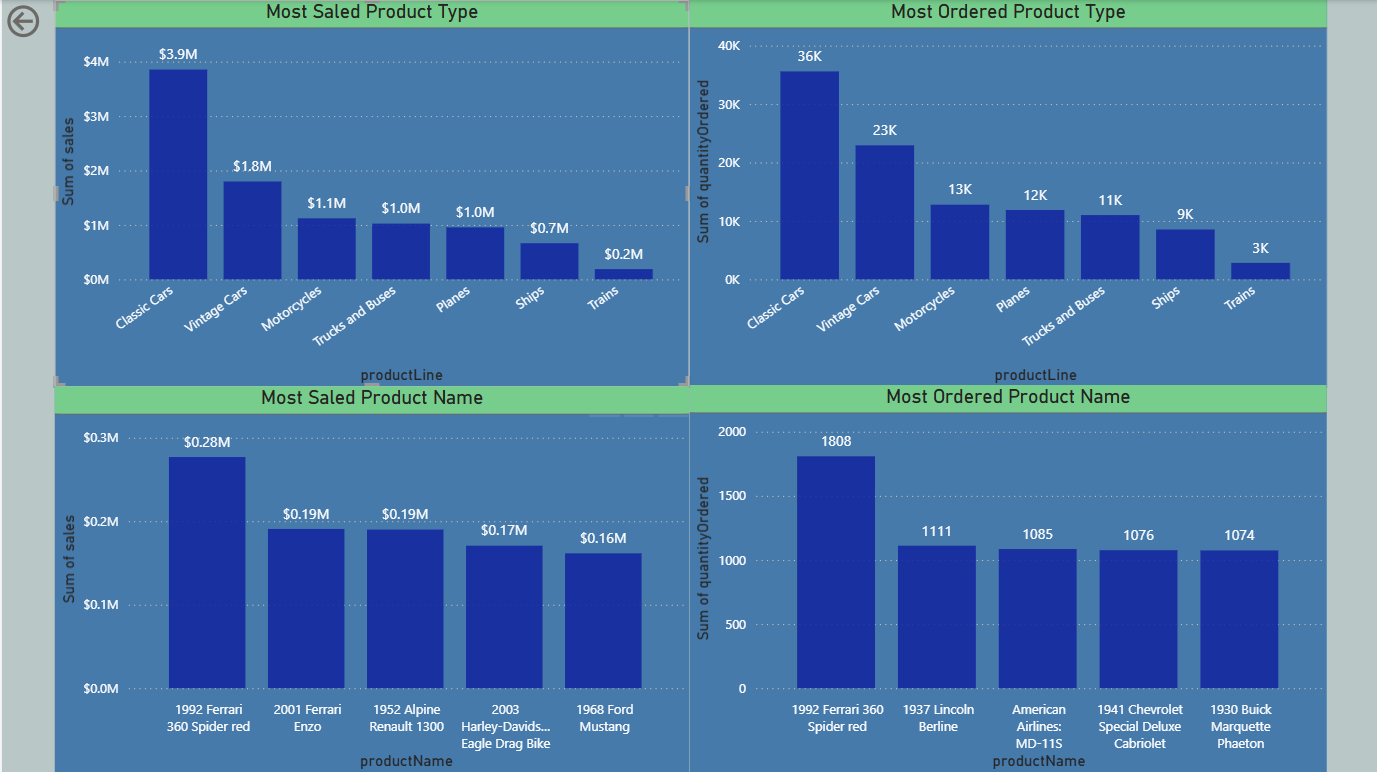

The page's visual inventory and layout, read from the dashboard file:
{"tool":"powerbi","page":{"name":"Page 2","canvas":[1280,720],"ordinal":2},"visuals":[{"type":"columnChart","fields":{"Category":["productlines.productLine"],"Y":["Sum(order details.sales)"]},"box":[48.8,0,590.7,360.5],"z":0},{"type":"columnChart","fields":{"Category":["productlines.productLine"],"Y":["Sum(order details.quantityOrdered)"]},"box":[639.5,0,593,360.5],"z":1000},{"type":"columnChart","fields":{"Category":["products.productName"],"Y":["Sum(order details.sales)"]},"box":[48.8,359.3,590.7,360.5],"z":2000},{"type":"columnChart","fields":{"Category":["products.productName"],"Y":["Sum(order details.quantityOrdered)"]},"box":[639.5,358.1,593,361.6],"z":3000},{"type":"actionButton","box":[0,0,48.8,39.5],"z":4000}]}

Visuals, with their boxes in screenshot pixels (x1, y1, x2, y2), scaled from the page's 1280x720 canvas onto the 1377x772 screenshot:
columnChart - productlines.productLine x Sum(order details.sales): (52, 0, 688, 387)
columnChart - productlines.productLine x Sum(order details.quantityOrdered): (688, 0, 1326, 387)
columnChart - products.productName x Sum(order details.sales): (52, 385, 688, 771)
columnChart - products.productName x Sum(order details.quantityOrdered): (688, 384, 1326, 771)
actionButton: (0, 0, 52, 42)
